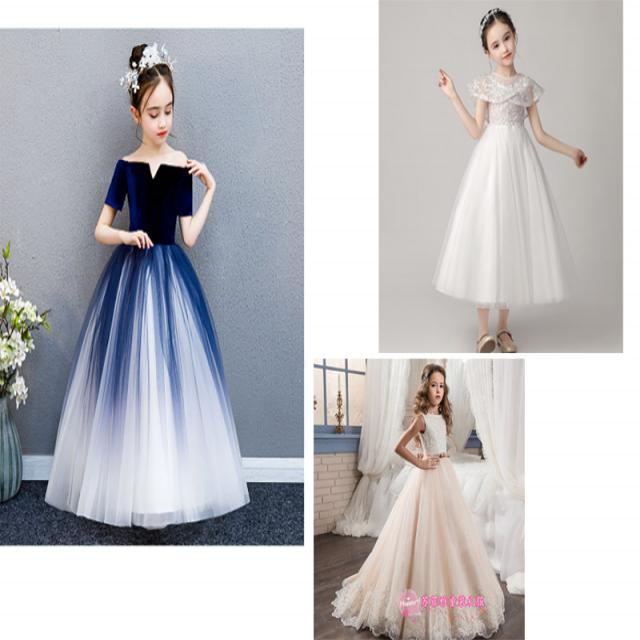clothes: (53, 150, 251, 530), (339, 409, 509, 634), (433, 69, 567, 309)
